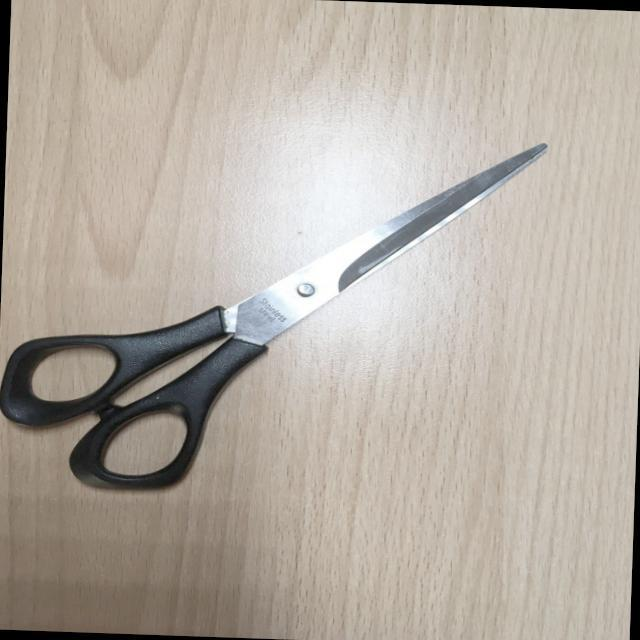scissors: (0, 122, 551, 507)
